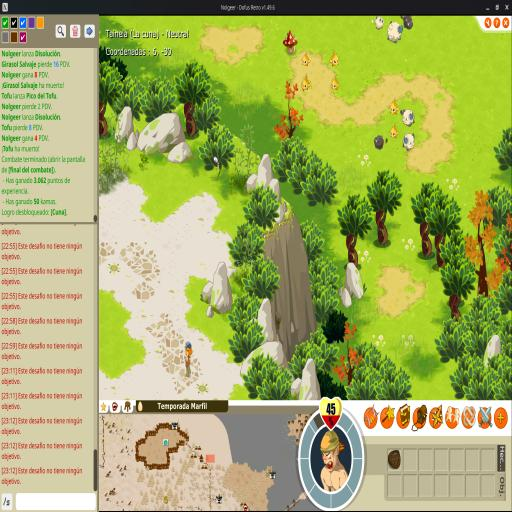Enemigos: (386, 19, 404, 44), (282, 30, 298, 54), (400, 108, 416, 128), (402, 132, 416, 152), (373, 134, 388, 152), (300, 73, 312, 92), (400, 16, 414, 32), (329, 48, 340, 68), (330, 73, 341, 92), (389, 122, 400, 139), (372, 16, 384, 31), (390, 98, 400, 116), (301, 50, 311, 67)
Personaje: (184, 341, 194, 379)
